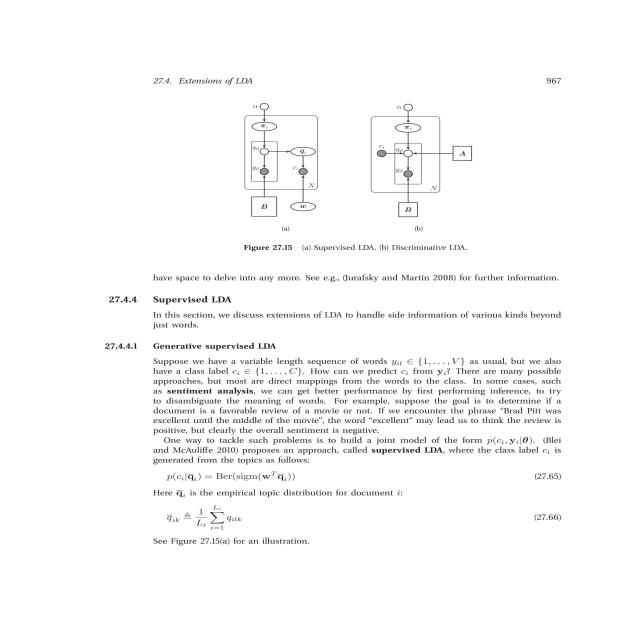diagram: (93, 90, 604, 258)
